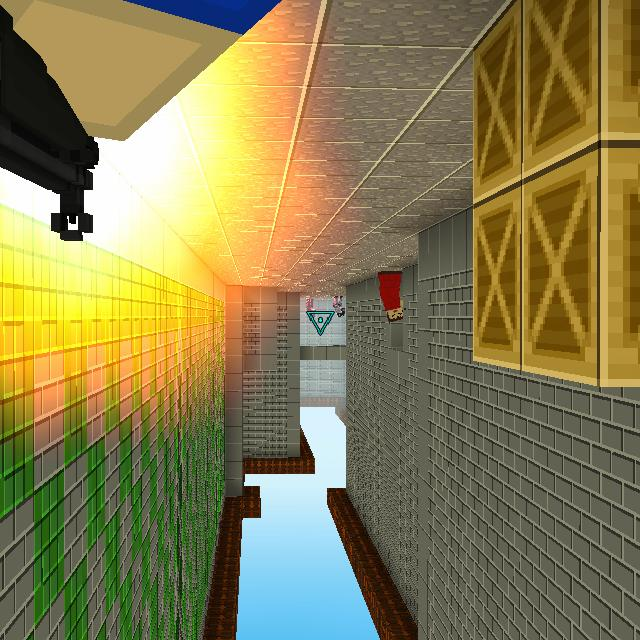enemy: (378, 270, 404, 323), (333, 296, 345, 318), (306, 298, 316, 318)
